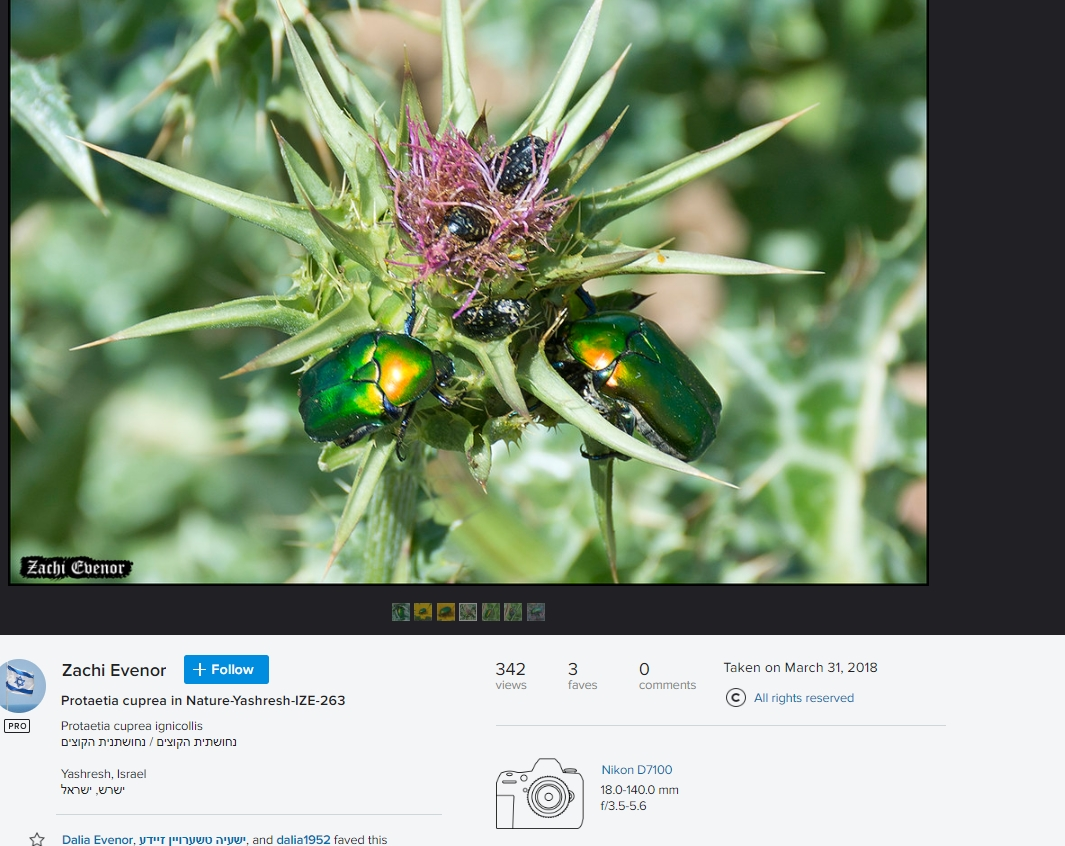Protaetia_cuprea_ignicollis: (549, 303, 729, 468), (296, 325, 467, 463)
